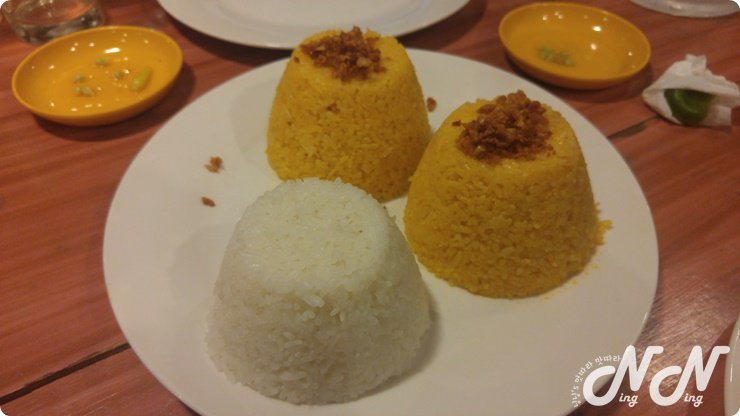plain rice: (223, 183, 430, 393)
